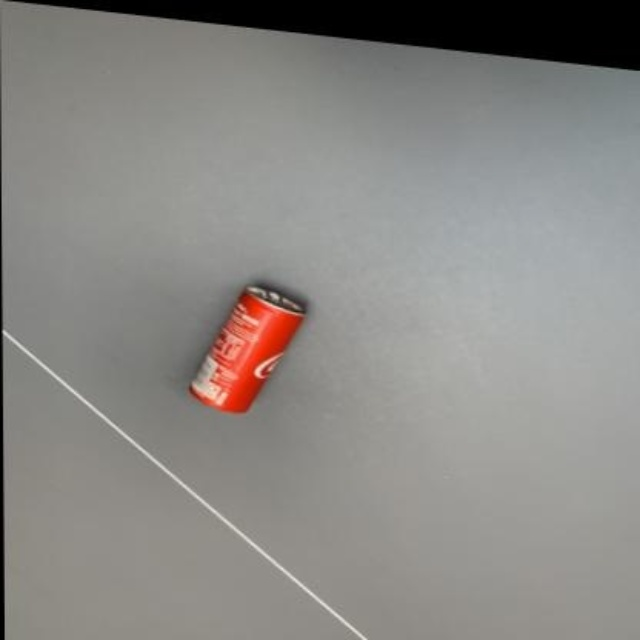trash: (189, 285, 305, 411)
